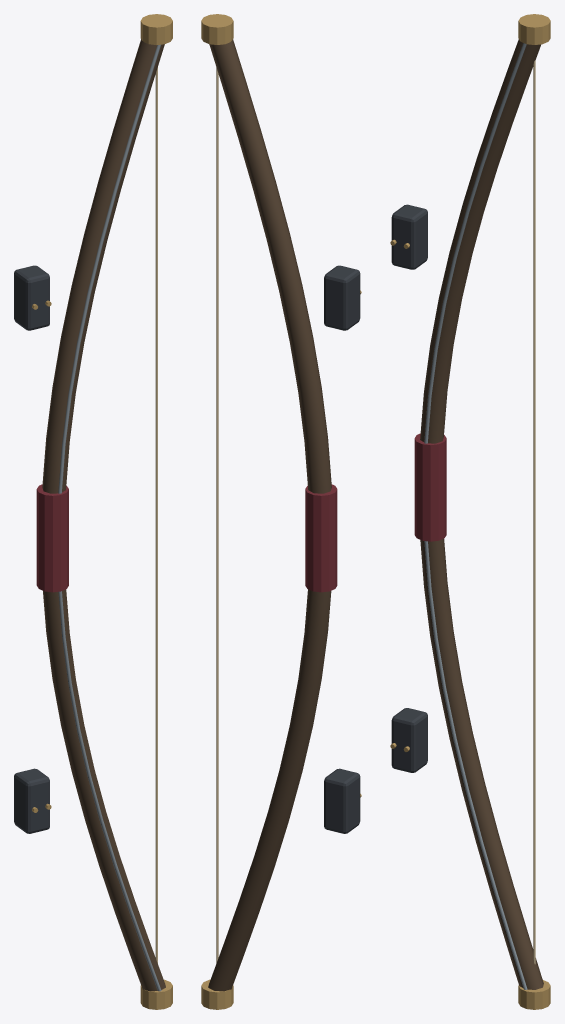
3 renders of one model, left to right at view 1: azimuth 30°, elevation 25°; view 2: azimuth 150°, elevation 25°; view 3: azimuth 330°, elevation 25°, orthographic.
Parts seen in each view (by area): view 1: TV-057 Steelback Hunter; view 2: TV-057 Steelback Hunter; view 3: TV-057 Steelback Hunter.
Boxes of the visible parts, <box> form: TV-057 Steelback Hunter: <box>14,14,172,1009</box>; TV-057 Steelback Hunter: <box>201,14,361,1009</box>; TV-057 Steelback Hunter: <box>390,14,550,1009</box>.
Size of the model in its own units: 0.2697 by 1.68 by 0.058.
